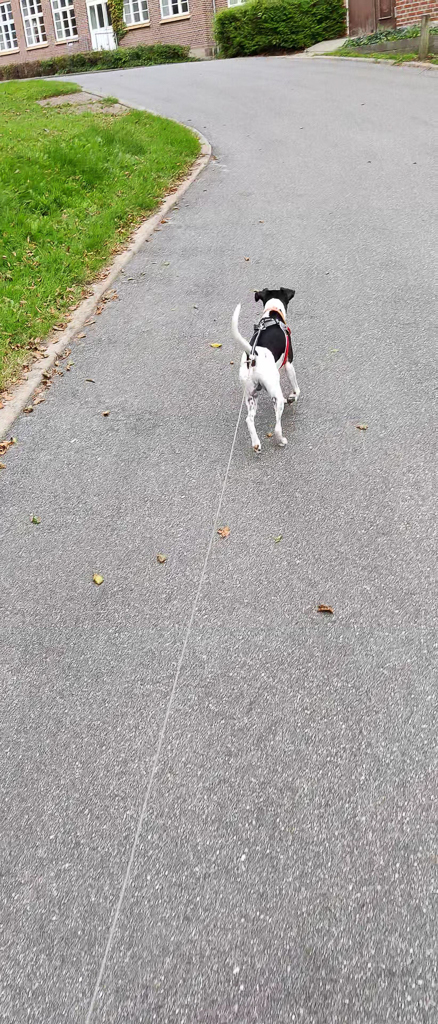Dog: (219, 279, 322, 460)
